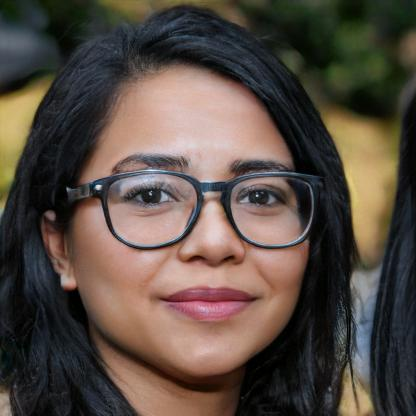glasses: (87, 167, 318, 252)
